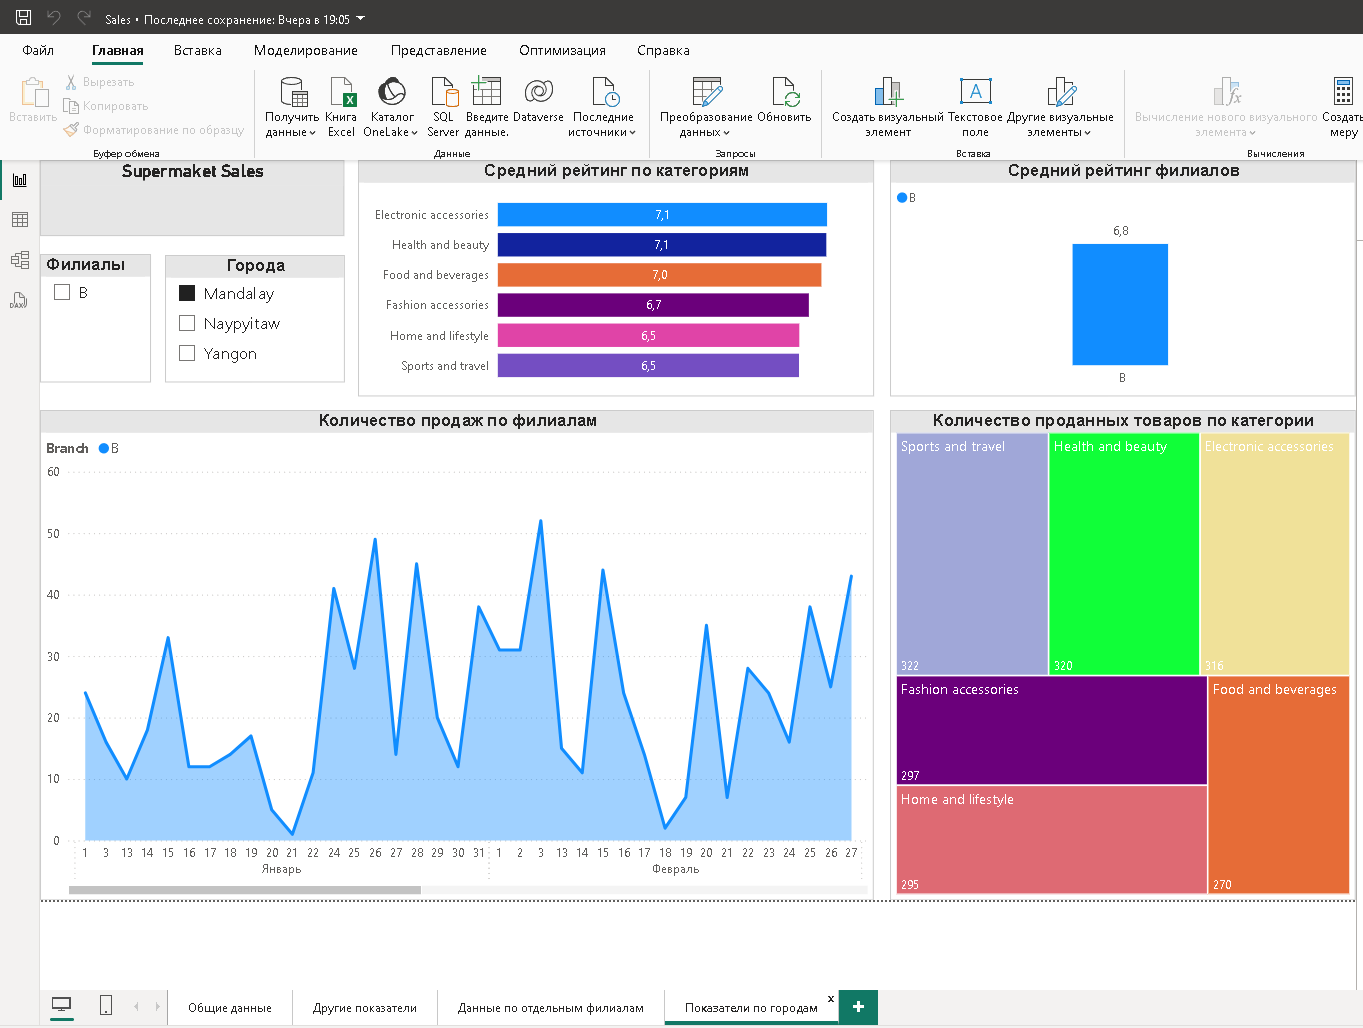

The page's visual inventory and layout, read from the dashboard file:
{"tool":"powerbi","page":{"name":"Показатели по городам","canvas":[1280,720],"ordinal":3},"visuals":[{"type":"textbox","title":"Supermaket Sales","box":[0,0,296.2,73.8],"z":0},{"type":"barChart","title":"Средний рейтинг по категориям","fields":{"Category":["Sheet1.Product line"],"Y":["Avg(Sheet1.Rating)"],"Series":["Sheet1.Product line"]},"box":[309.3,0,502,229.6],"z":1},{"type":"columnChart","title":"Средний рейтинг филиалов","fields":{"Y":["Avg(Sheet1.Rating)"],"Category":["Sheet1.Branch"],"Series":["Sheet1.Branch"]},"box":[826.8,0,453.2,229.6],"z":2},{"type":"slicer","title":"Филиалы","fields":{"Values":["Sheet1.Branch"]},"box":[0,91.6,108.3,124.9],"z":3},{"type":"slicer","title":"Города","fields":{"Values":["Sheet1.City"]},"box":[121.3,92.8,174.9,123.7],"z":4},{"type":"stackedAreaChart","title":"Количество продаж по филиалам","fields":{"Series":["Sheet1.Branch"],"Category":["Sheet1.Date.Изменение.Иерархия дат.Месяц","Sheet1.Date.Изменение.Иерархия дат.День"],"Y":["Sum(Sheet1.Quantity)"]},"box":[0,242.7,811.3,477],"z":5},{"type":"treemap","title":"Количество проданных товаров по категории","fields":{"Group":["Sheet1.Product line"],"Values":["Sum(Sheet1.Quantity)"]},"box":[826.8,242.7,453.2,477],"z":6}]}

Visuals, with their boxes on the page's 1280x720 design canvas (x1, y1, x2, y2). These are canvas units, not pixel positions in the 1363x1028 screenshot, which may show the page scaled, cropped or inside an application window:
"Supermaket Sales" textbox: bbox=(0, 0, 296, 74)
"Средний рейтинг по категориям" barChart: bbox=(309, 0, 811, 230)
"Средний рейтинг филиалов" columnChart: bbox=(827, 0, 1280, 230)
"Филиалы" slicer: bbox=(0, 92, 108, 216)
"Города" slicer: bbox=(121, 93, 296, 216)
"Количество продаж по филиалам" stackedAreaChart: bbox=(0, 243, 811, 720)
"Количество проданных товаров по категории" treemap: bbox=(827, 243, 1280, 720)
